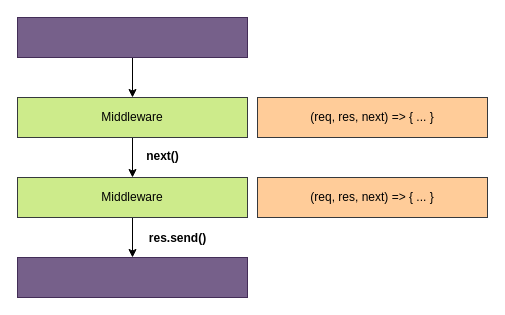
This 505x315 diagram has some shape labels left out. The centre of each missing label's shape, as x and y in pixels:
"Request" belongs at (132,37).
"Response" belongs at (132,277).
